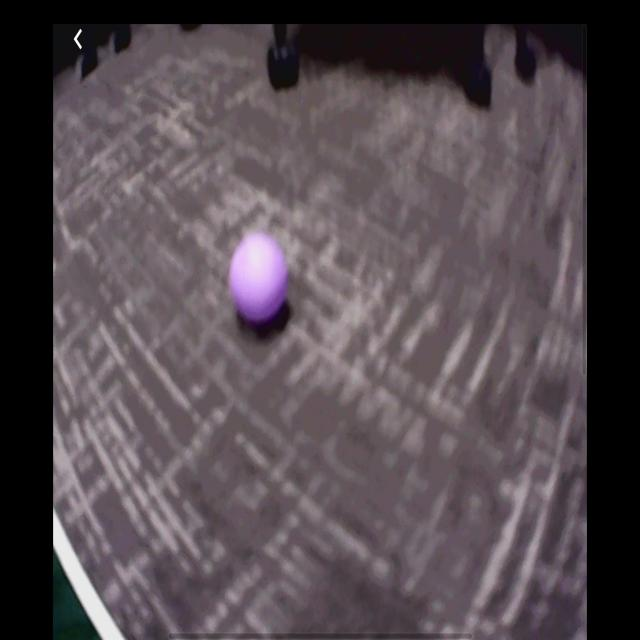ball: (228, 230, 289, 326)
